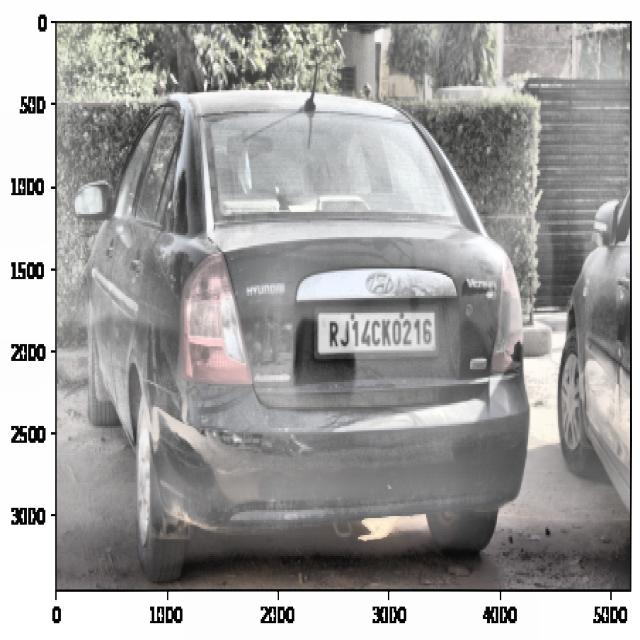license_plate: (323, 308, 435, 357)
